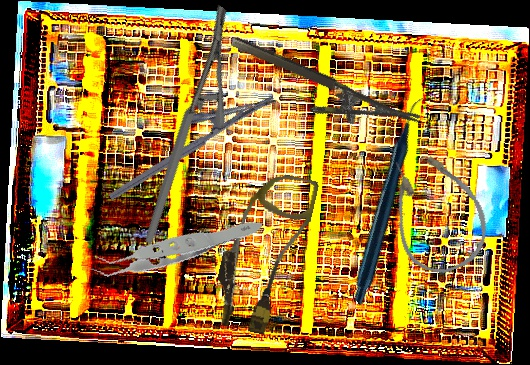Cannula: (207, 164, 320, 340), (373, 139, 500, 284)
Handpiece: (282, 97, 500, 306)
Needle Holder: (78, 4, 291, 245), (219, 33, 422, 154), (94, 72, 277, 202)
Tissue Forceps: (80, 177, 263, 314)
